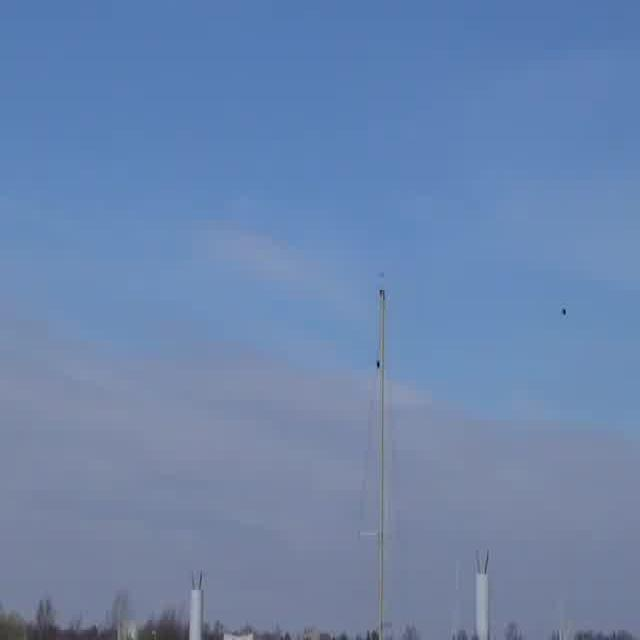bird: (558, 302, 570, 324)
